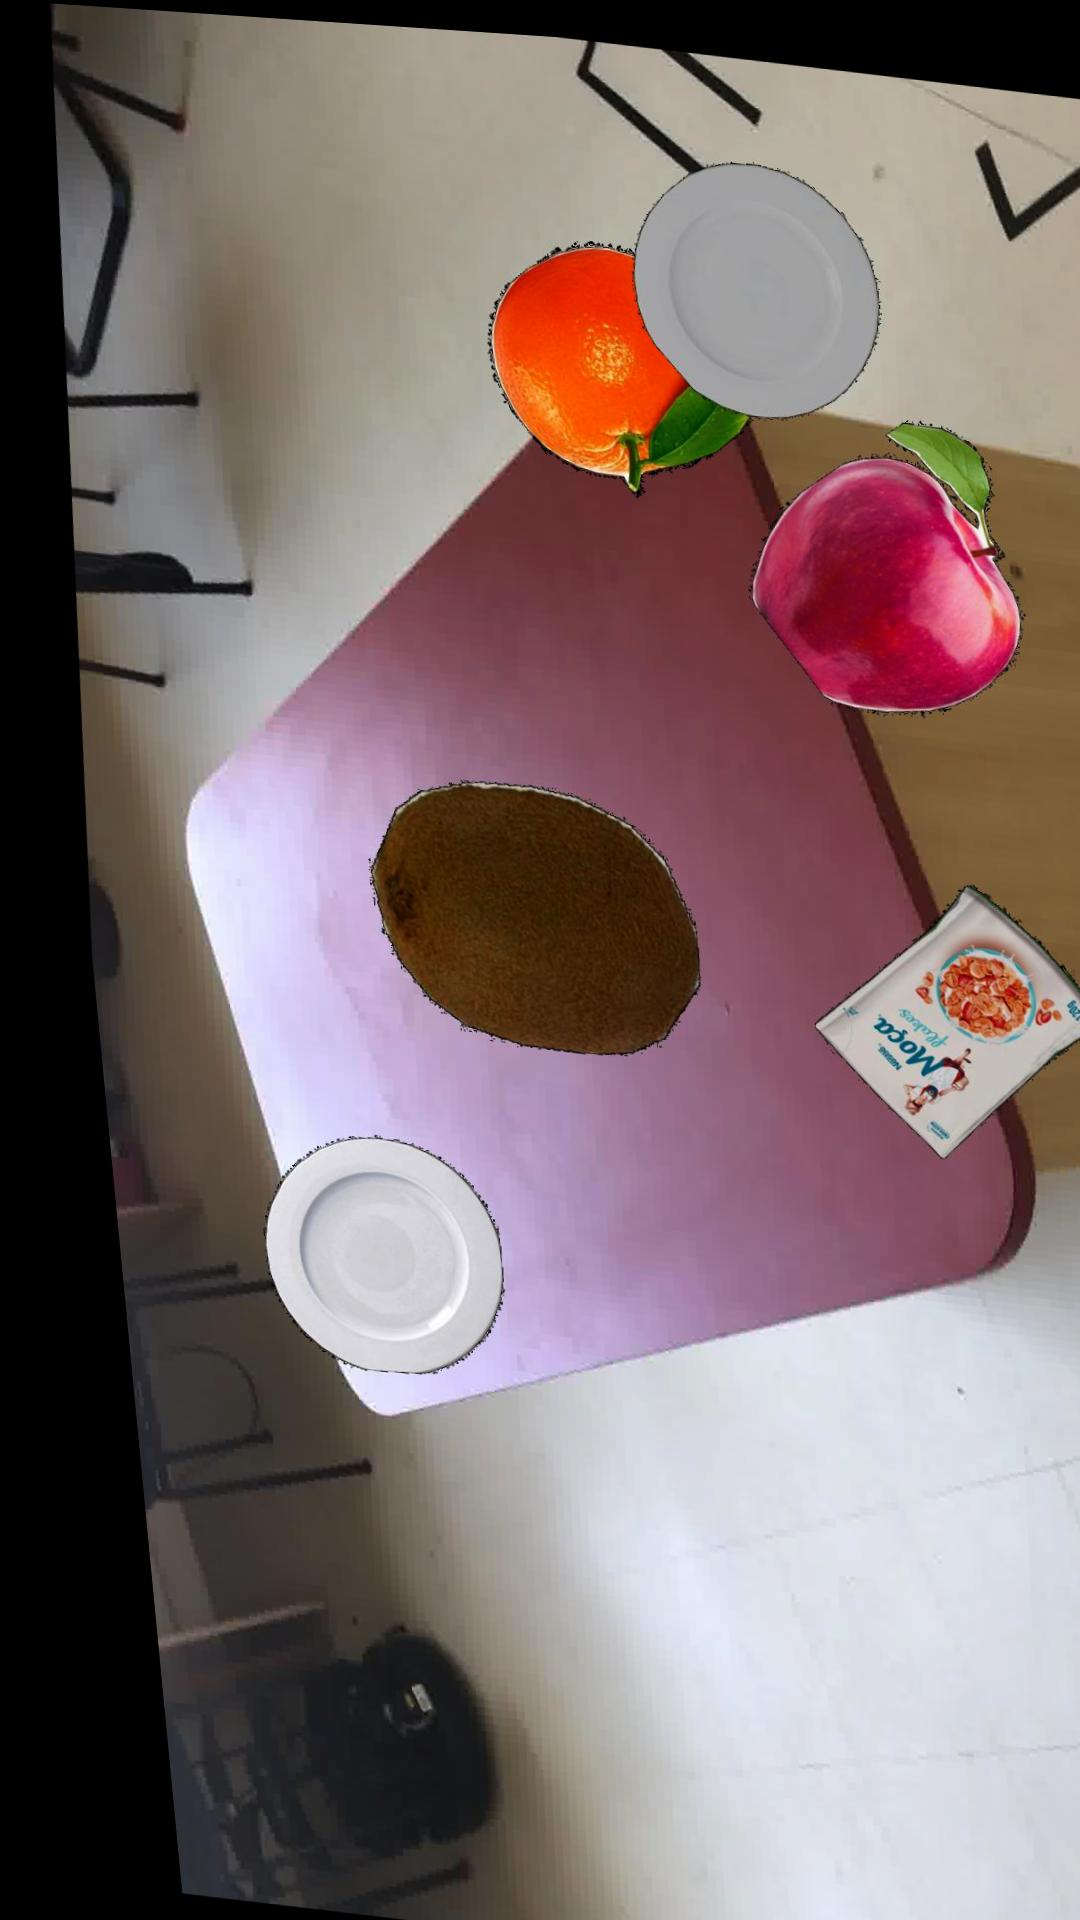apple: (740, 407, 1010, 702)
corn flakes: (795, 870, 1080, 1145)
kiwi: (355, 773, 683, 1046)
orange: (481, 231, 745, 488)
plate: (628, 149, 876, 406), (241, 1131, 480, 1369)
